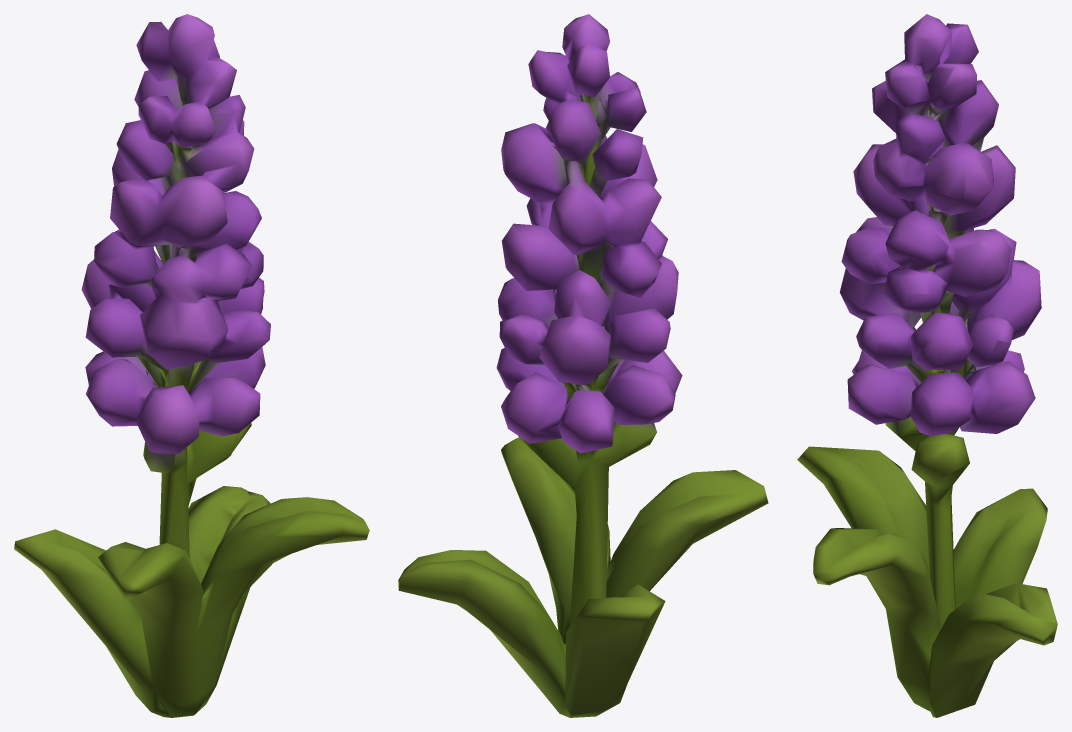
File: lavender.glb
3 views of the same model, side by side, from view 1: azimuth 30°, elevation 25°; view 2: azimuth 150°, elevation 25°; view 3: azimuth 270°, elevation 25° (orthographic).
Bounding box in the file's own units: 0.7288 × 1.91 × 0.646.
